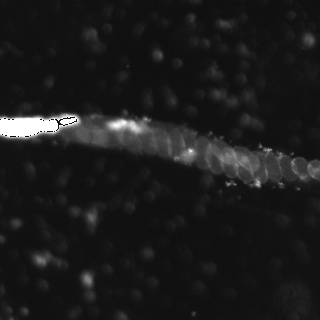embryo: (258, 151, 282, 182), (220, 146, 240, 178), (210, 140, 236, 164), (233, 147, 260, 170), (119, 127, 141, 155), (136, 126, 157, 155), (249, 152, 268, 184), (152, 128, 171, 158), (167, 128, 185, 159), (180, 129, 198, 160), (77, 127, 108, 145), (92, 129, 121, 148), (205, 146, 224, 174), (195, 137, 211, 170), (279, 154, 298, 181), (235, 153, 253, 180), (84, 114, 111, 132), (62, 125, 89, 143), (291, 157, 308, 180)
